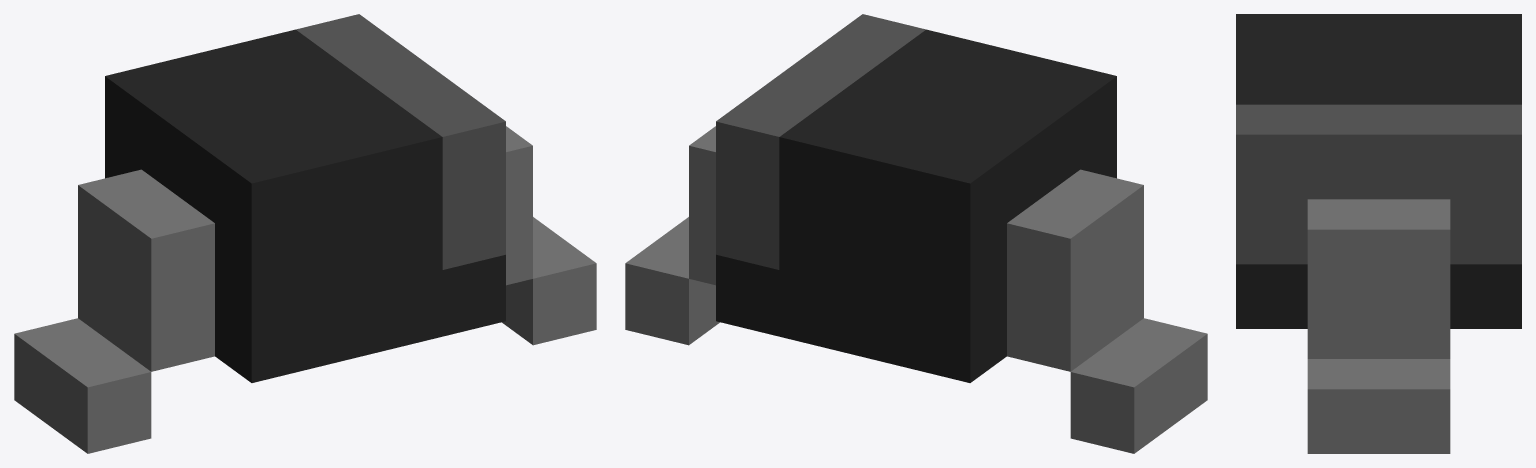
File: diodeVoxel.obj
3 views of the same model, side by side, from view 1: azimuth 30°, elevation 25°; view 2: azimuth 150°, elevation 25°; view 3: azimuth 270°, elevation 25° (orthographic). The views are drawn at different scales.
Size of the model in its own units: 0.8 by 0.4 by 0.4.
1 material, 1 textured.
